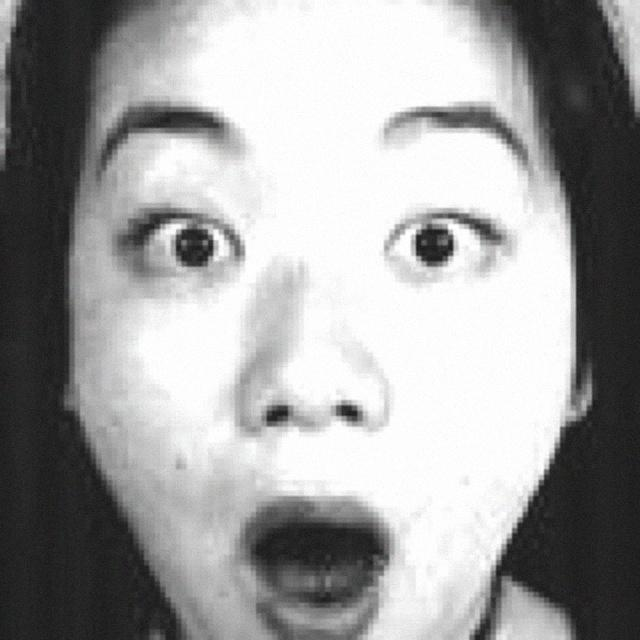surprise: (84, 13, 582, 640)
